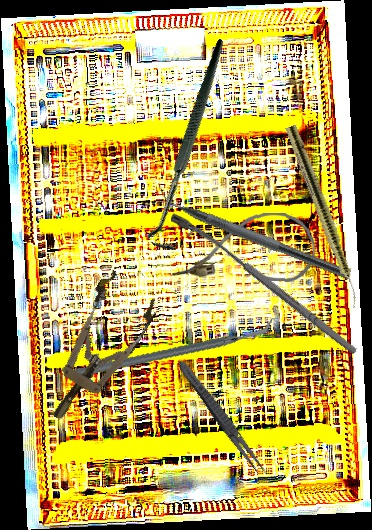Cannula: (168, 209, 317, 283)
Chopper: (71, 281, 276, 415), (149, 180, 357, 281)
Dressing Forceps: (173, 356, 271, 480)
Handpiece: (282, 124, 366, 309)
Hook Surgical: (82, 38, 303, 257), (185, 220, 361, 363)
Speculum: (27, 266, 165, 435)
